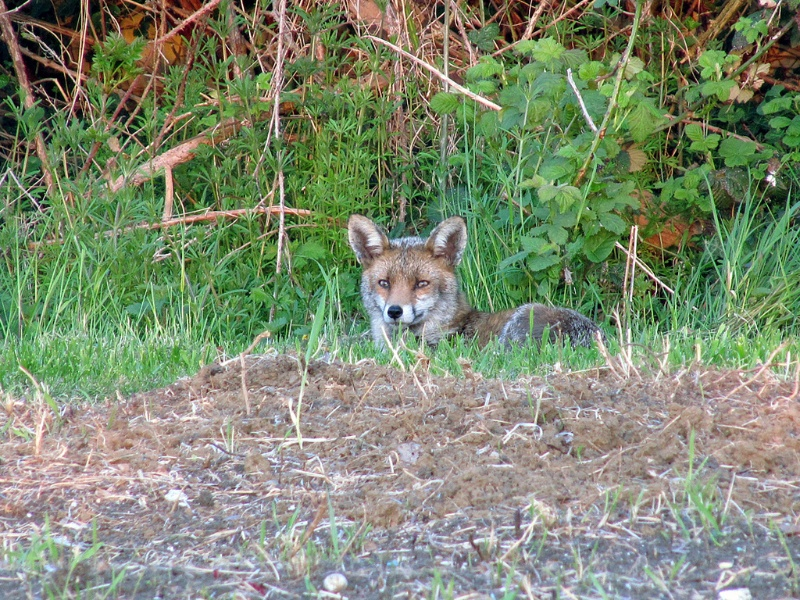fox: (337, 210, 618, 382)
